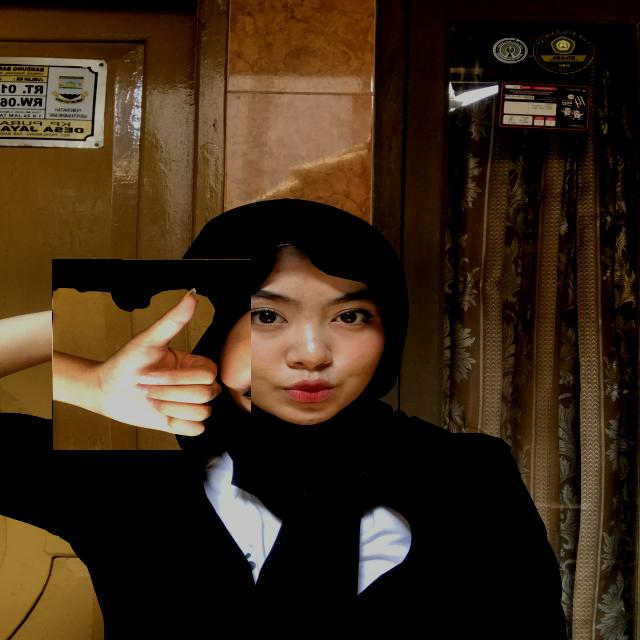sedih: (52, 259, 251, 450)
